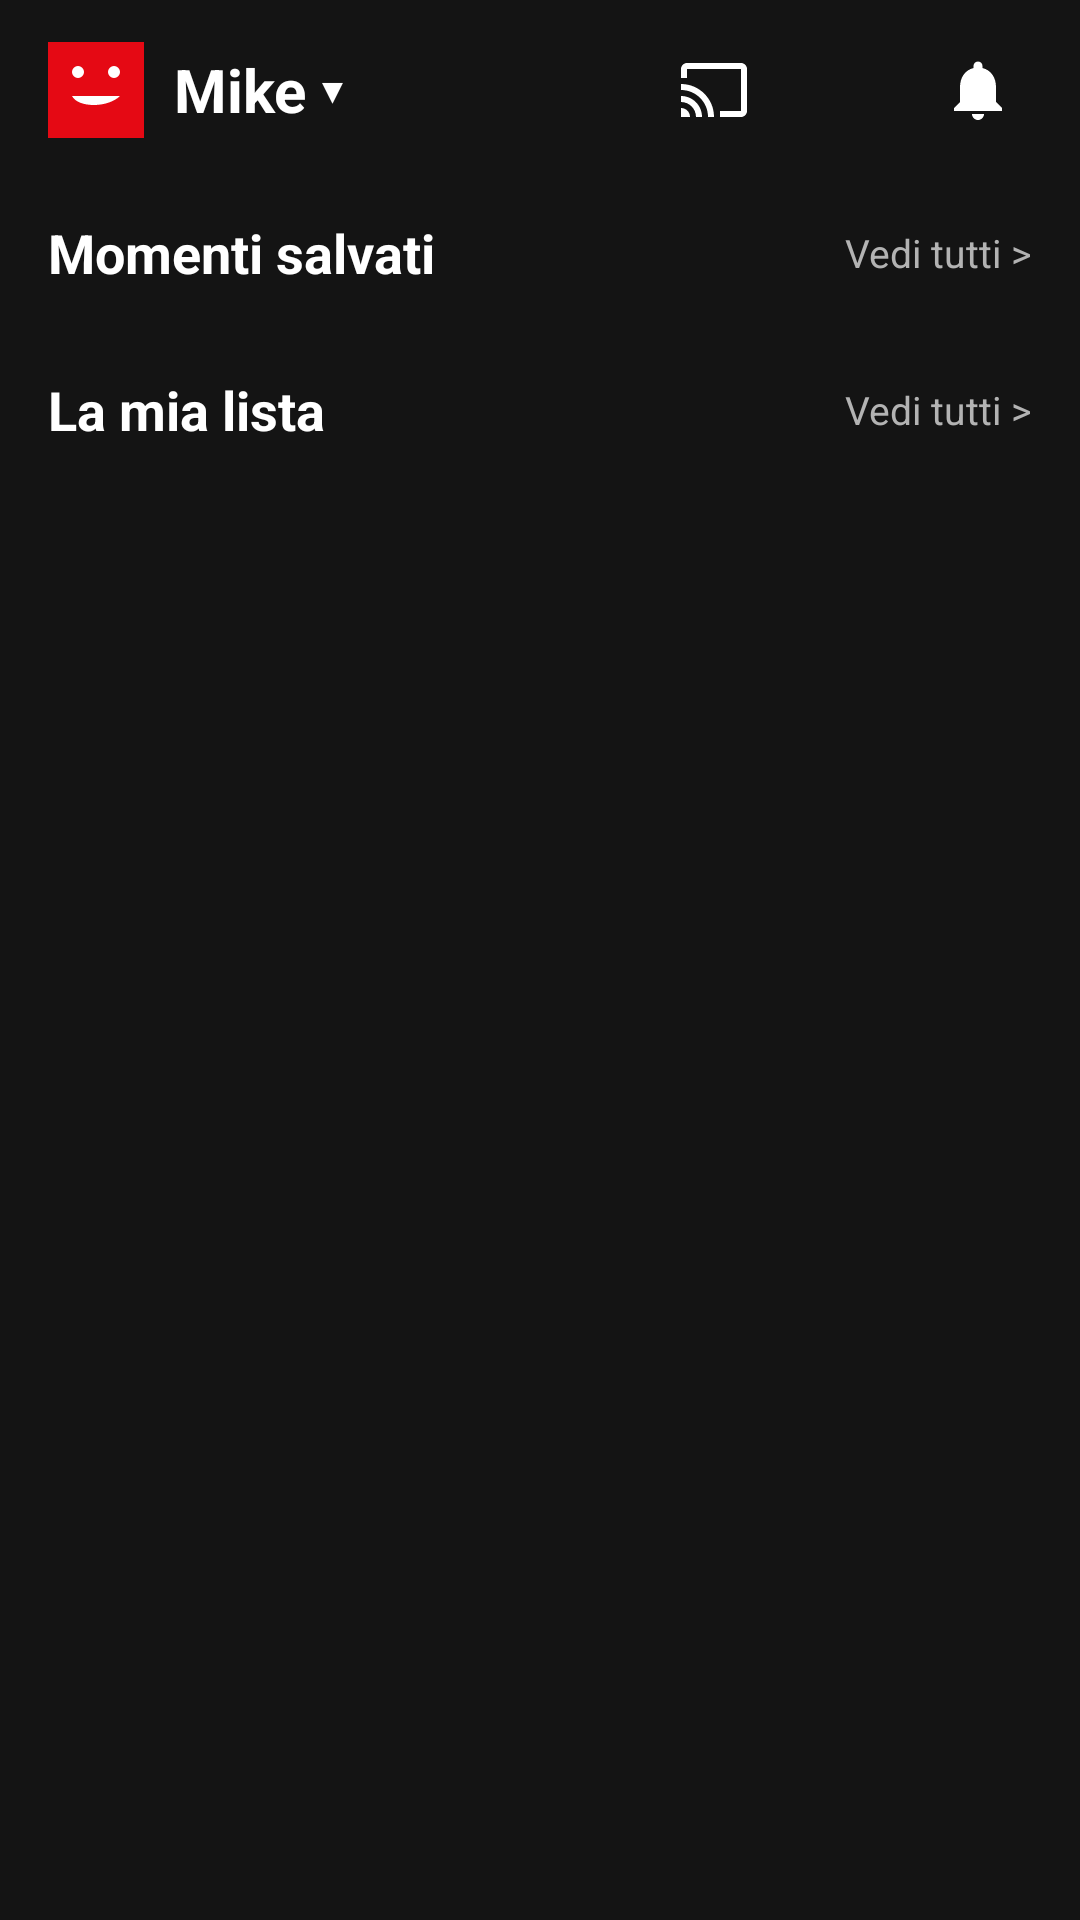

Icon click points for this 1080x1920 phone screenshot, format (x=x, y=y):
Cast: (x=714, y=90)
Notifiche: (x=978, y=90)
